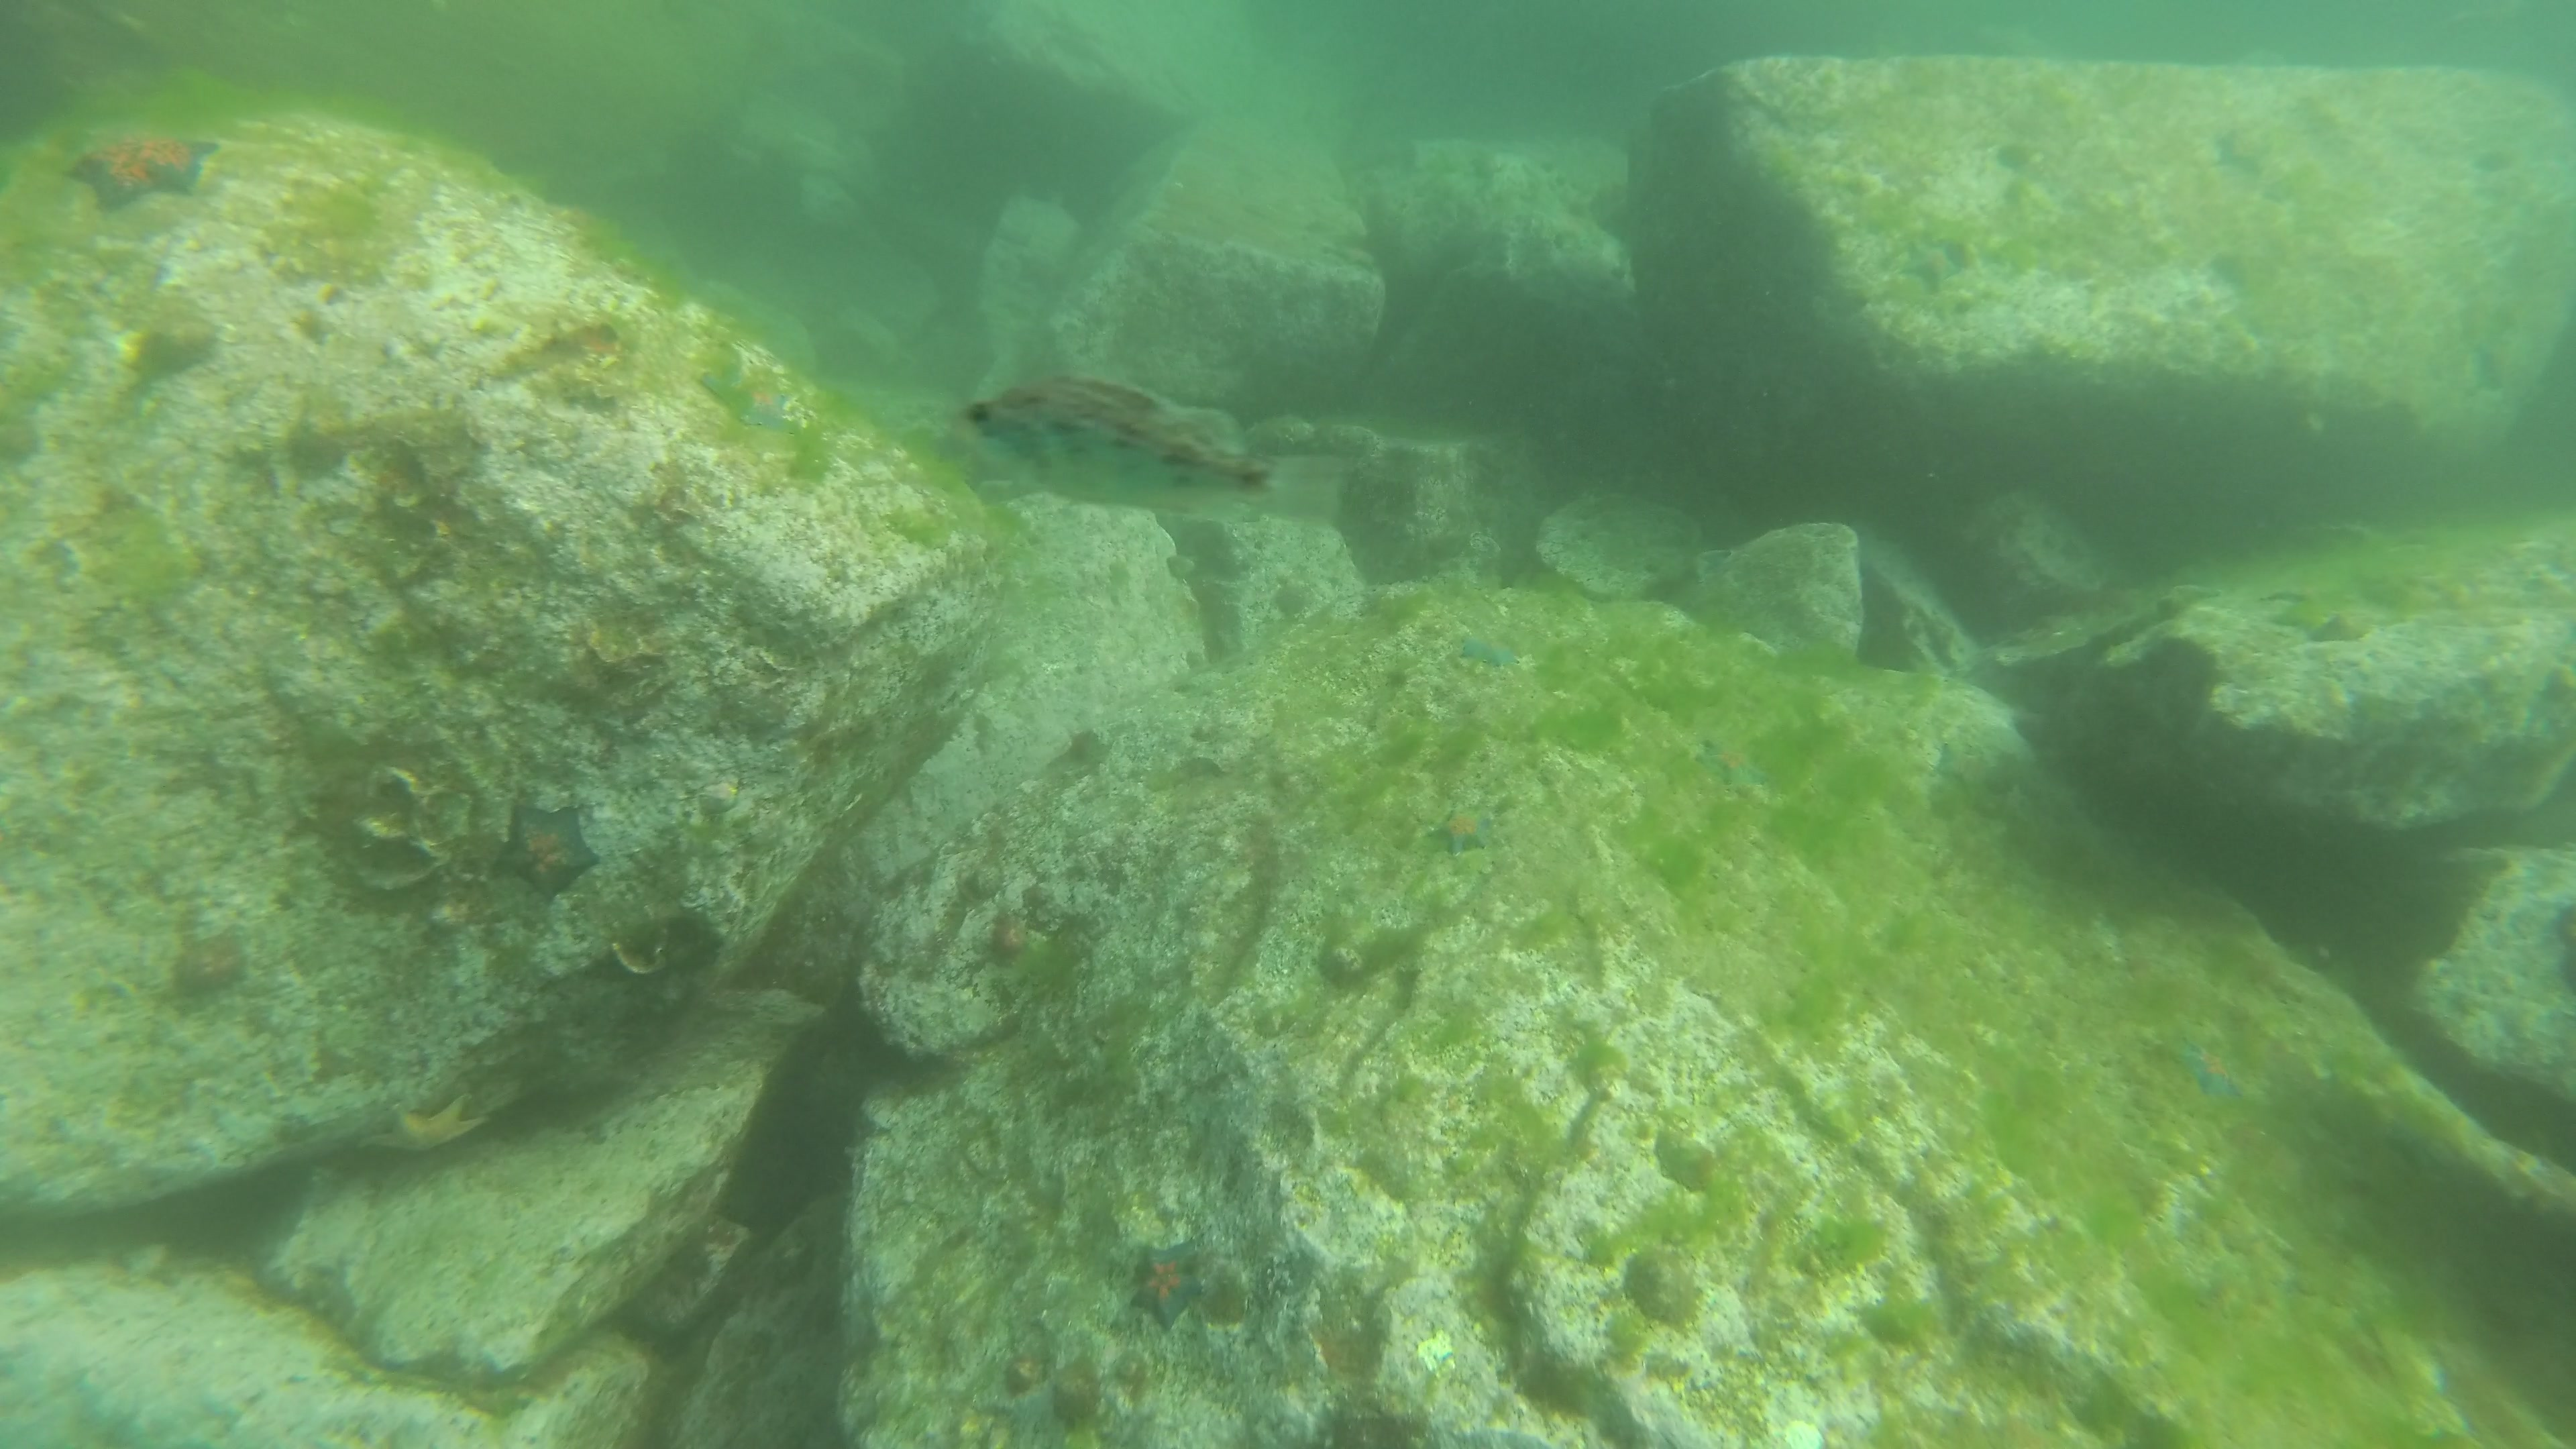starfish: (64, 133, 218, 214), (497, 796, 609, 906), (1129, 1233, 1219, 1338), (354, 1092, 488, 1159), (694, 359, 796, 435), (2164, 1035, 2250, 1102), (1430, 798, 1506, 860), (1697, 732, 1767, 796), (1447, 623, 1525, 676)
